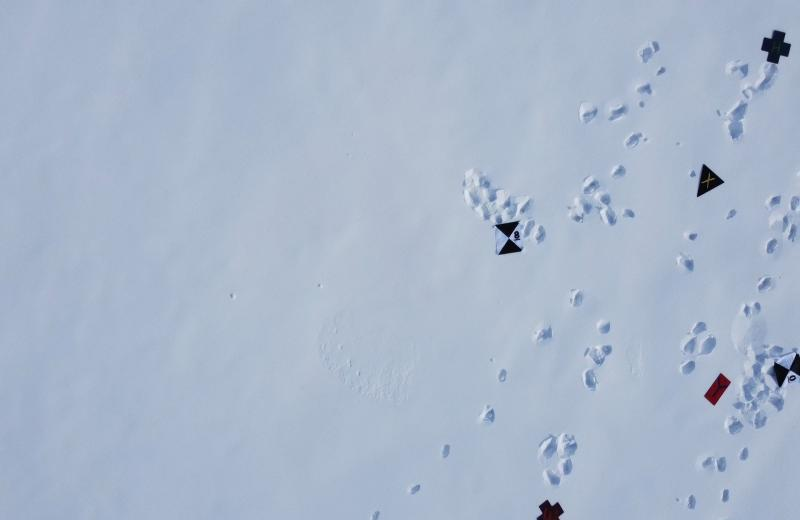Cross: (759, 26, 793, 68), (532, 497, 564, 520)
Rectangle: (701, 370, 732, 409)
Triangle: (691, 162, 725, 201)
